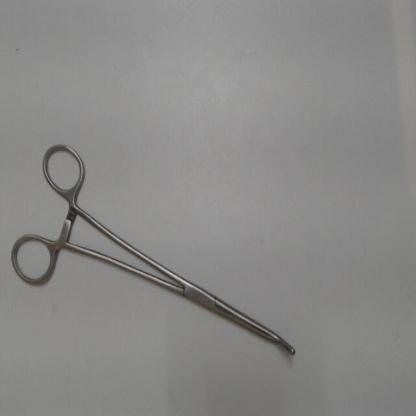Lahey Forceps: (7, 138, 303, 366)
